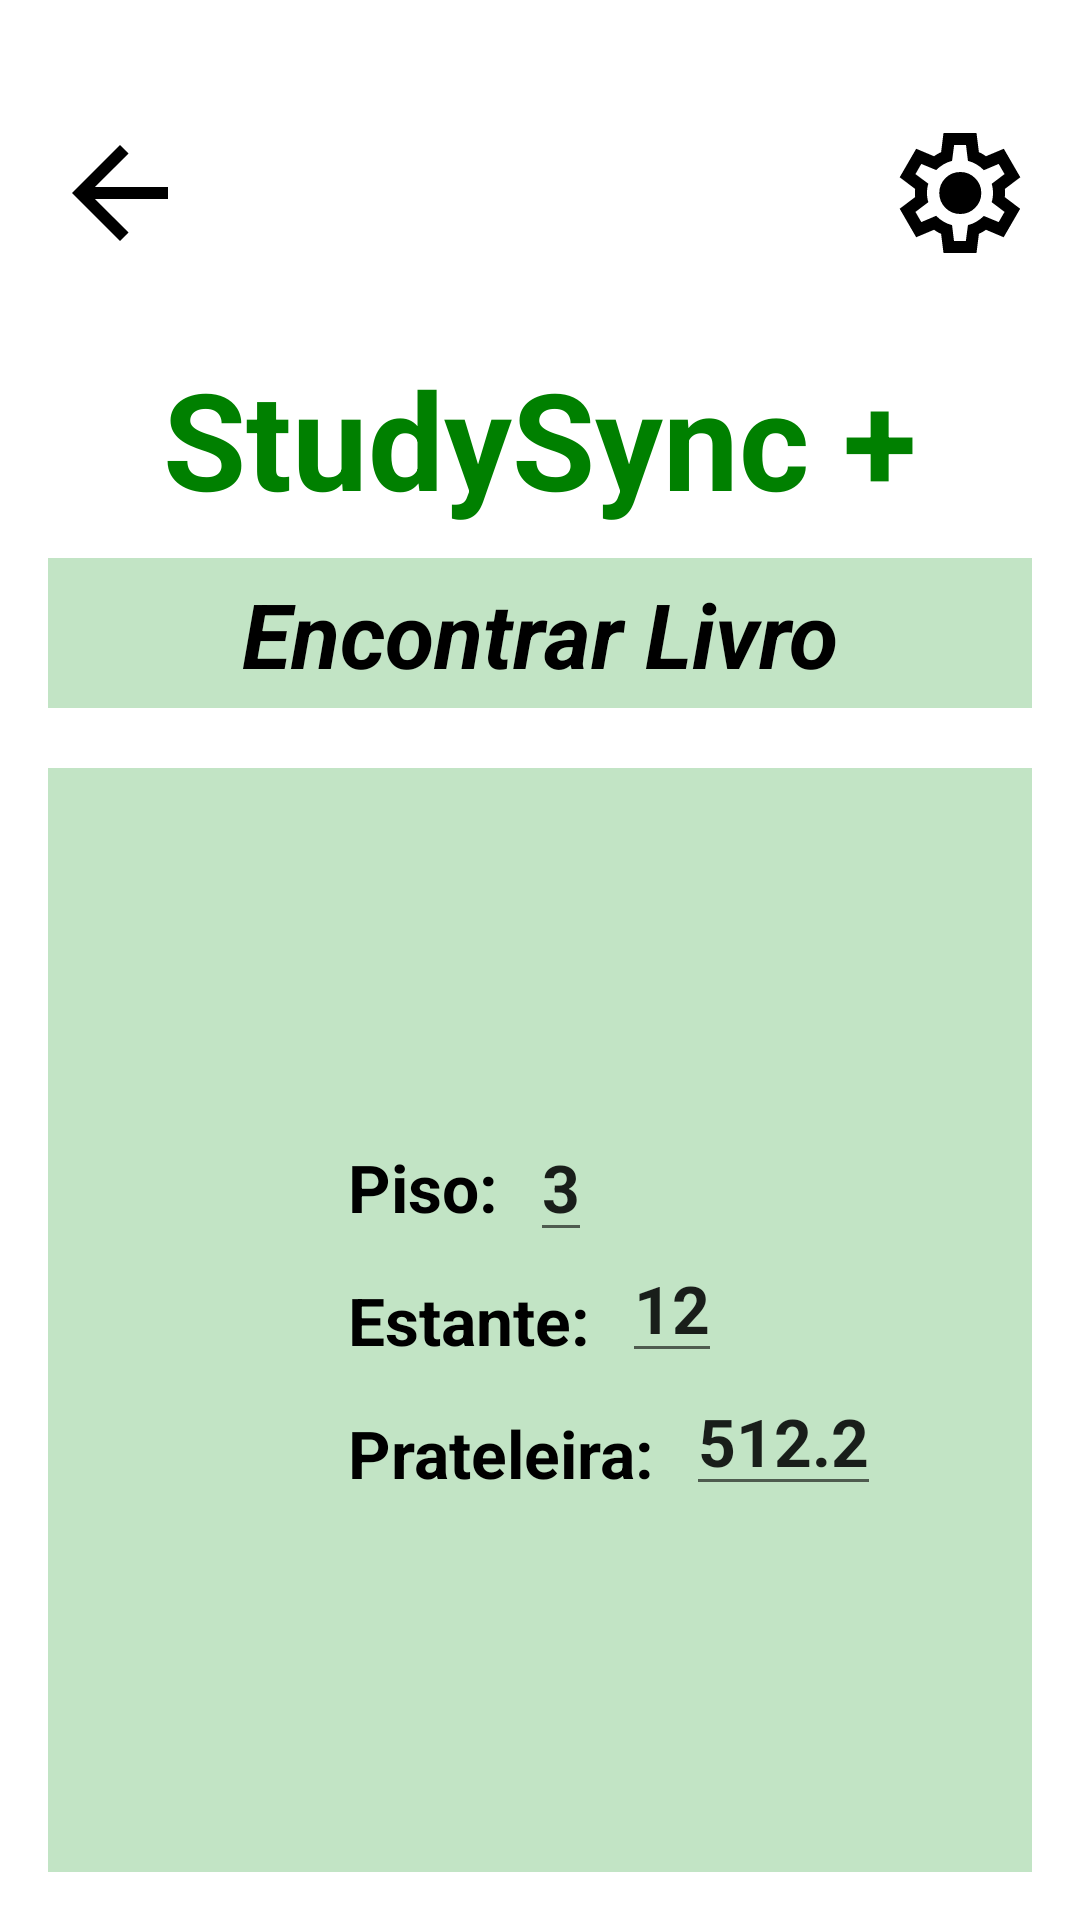

Icons on this 1080*1920 Android screen, each with the point to tap as point (x, y):
back arrow: point (120, 193)
settings cog: point (960, 193)
